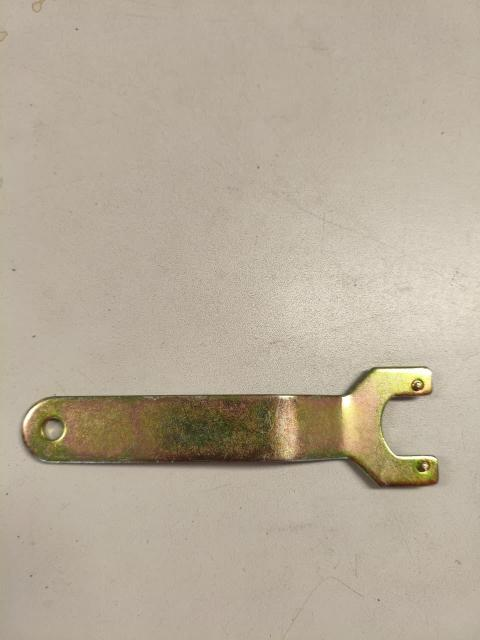Metal: (22, 362, 450, 493)
